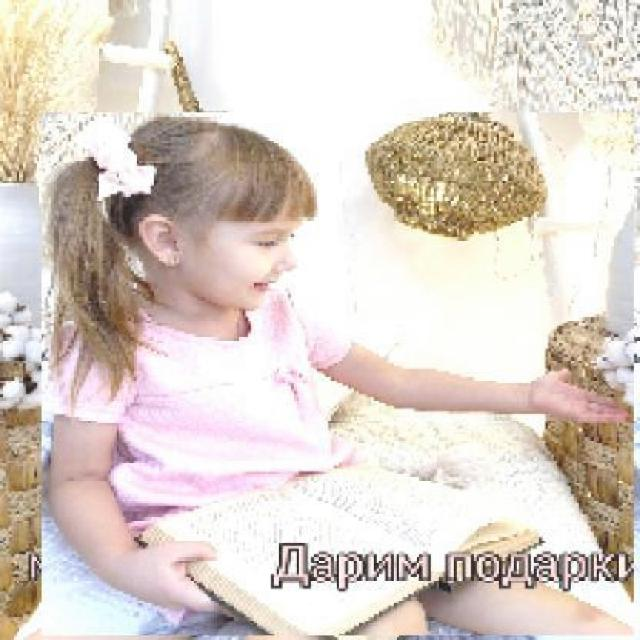child: (40, 112, 634, 637)
